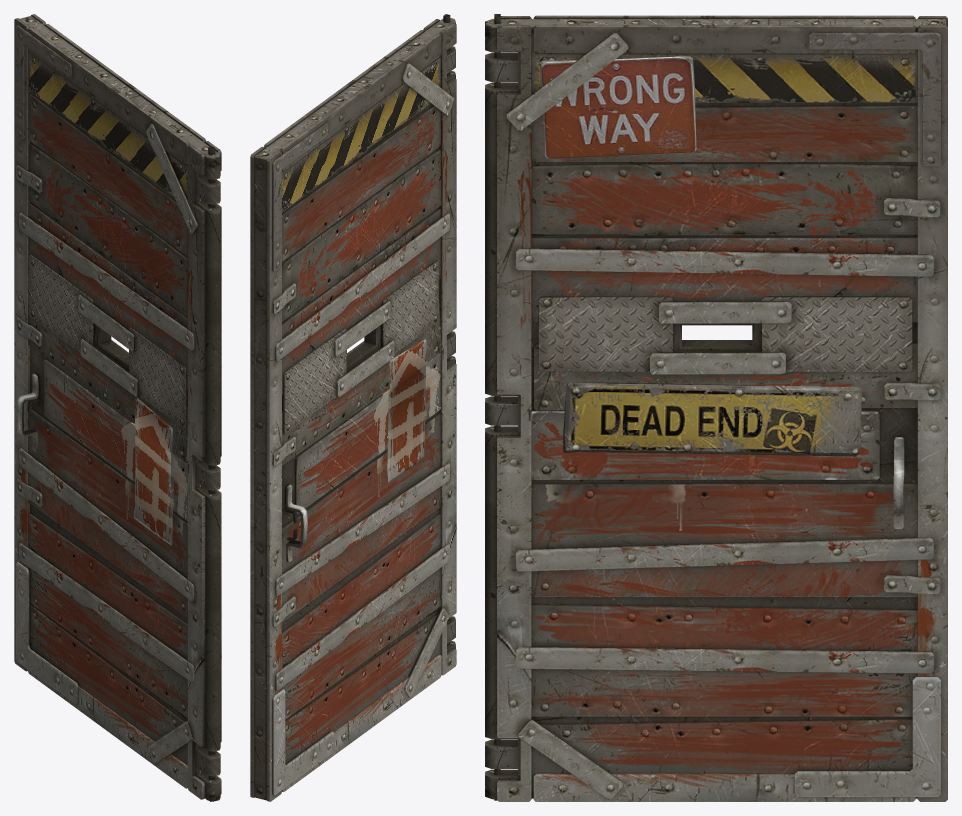
File: checkpoint_door_02_static.glb
3 views of the same model, side by side, from view 1: azimuth 30°, elevation 25°; view 2: azimuth 150°, elevation 25°; view 3: azimuth 270°, elevation 25° (orthographic). The views are drawn at different scales.
Visible parts, largest first — view 1: checkpoint_door_02_static; view 2: checkpoint_door_02_static; view 3: checkpoint_door_02_static.
Boxes of the visible parts, x1,y1,x2,y2 form: checkpoint_door_02_static: (14, 14, 221, 801); checkpoint_door_02_static: (250, 14, 456, 801); checkpoint_door_02_static: (485, 14, 947, 801).
Bounding box in the file's own units: 0.1635 × 2 × 1.07.
Materials: 1 (1 with a texture image).
